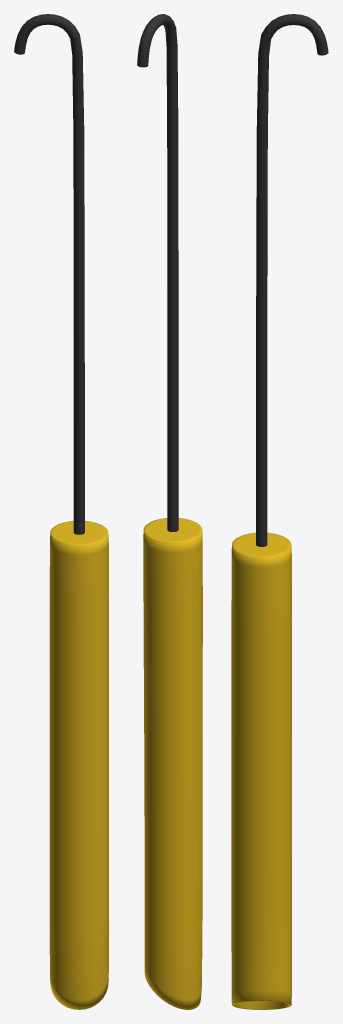
The model's file is Chime_M.fbx.
The picture shows the model from 3 angles, left to right: view 1: azimuth 90°, elevation 25°; view 2: azimuth 150°, elevation 25°; view 3: azimuth 270°, elevation 25°; orthographic projection. The views are drawn at different scales.
Visible parts, largest first — view 1: Cylinder.001, Vert.001; view 2: Cylinder.001, Vert.001; view 3: Cylinder.001, Vert.001.
Boxes of the visible parts, bbox=[...] form: Cylinder.001: bbox=[49, 521, 108, 1009]; Vert.001: bbox=[14, 14, 84, 534]; Cylinder.001: bbox=[143, 518, 202, 1009]; Vert.001: bbox=[137, 14, 178, 531]; Cylinder.001: bbox=[231, 532, 291, 1009]; Vert.001: bbox=[256, 14, 328, 546].
Size of the model in its own units: 50.88 by 937 by 81.87.
